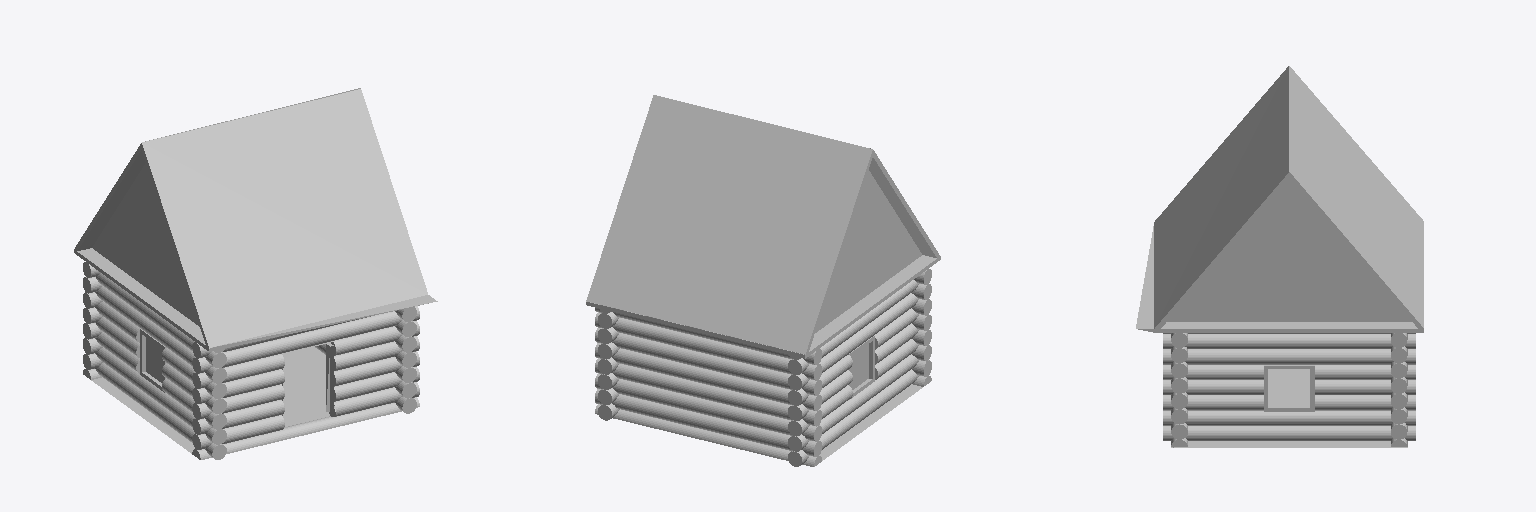
Rendered from house_break.obj.
The picture shows the model from 3 angles: view 1: azimuth 30°, elevation 25°; view 2: azimuth 150°, elevation 25°; view 3: azimuth 270°, elevation 25°; orthographic projection.
Visible parts, largest first — view 1: Cube.013_Cube.016; view 2: Cube.013_Cube.016; view 3: Cube.013_Cube.016.
Part boxes in pixels (bbox=[...]): Cube.013_Cube.016: bbox=[74, 88, 437, 459]; Cube.013_Cube.016: bbox=[586, 95, 940, 466]; Cube.013_Cube.016: bbox=[1136, 66, 1423, 447].
Bounding box in the file's own units: 6 × 7.22 × 6.84.